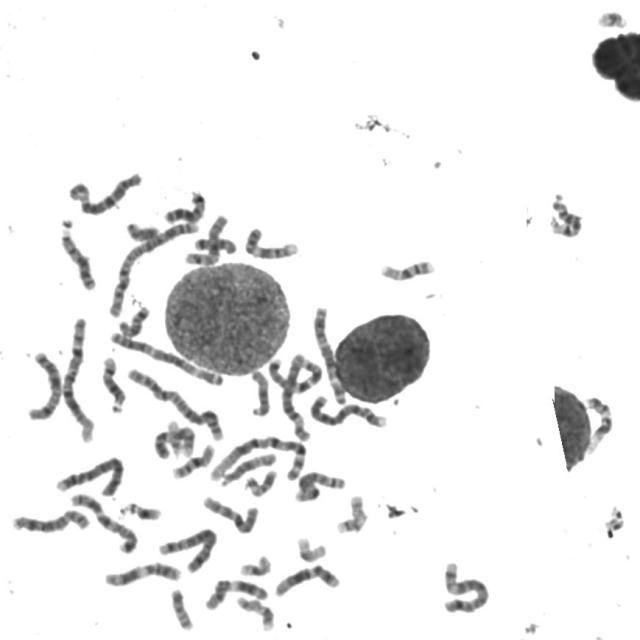A1: (207, 430, 311, 486), (58, 312, 98, 444)
A2: (104, 217, 202, 319), (124, 364, 226, 442)
A3: (106, 327, 225, 388), (309, 302, 349, 406)
B4: (51, 451, 126, 497), (306, 391, 391, 430)
B5: (154, 523, 218, 575), (440, 557, 492, 615)
C10: (200, 490, 260, 536), (180, 211, 228, 268)
C11: (202, 574, 272, 612), (100, 558, 184, 588)
C12: (271, 560, 342, 599), (581, 392, 616, 456)
C6: (69, 167, 145, 216), (278, 350, 314, 444)
C7: (67, 489, 141, 555), (265, 352, 324, 394)
C8: (8, 505, 94, 535), (292, 467, 348, 504)
C9: (241, 222, 301, 260), (152, 422, 198, 460)
D13: (56, 217, 99, 293), (160, 186, 208, 225)
D14: (98, 352, 128, 414), (550, 193, 586, 238)
D15: (214, 447, 281, 486), (247, 365, 273, 419)
E16: (169, 439, 217, 480), (376, 254, 438, 282)
E17: (232, 592, 277, 632), (333, 490, 370, 536)
E18: (115, 301, 152, 338), (190, 232, 238, 255)
F19: (294, 532, 328, 564), (236, 551, 274, 578)
F20: (167, 585, 196, 632), (242, 465, 280, 499)
G21: (118, 498, 164, 523), (593, 5, 630, 31)
G22: (597, 503, 629, 542), (164, 415, 188, 463)
X: (24, 346, 64, 422)
Y: (123, 217, 161, 243)
